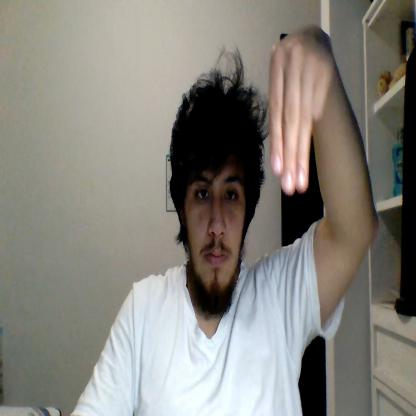M: (268, 24, 334, 194)
